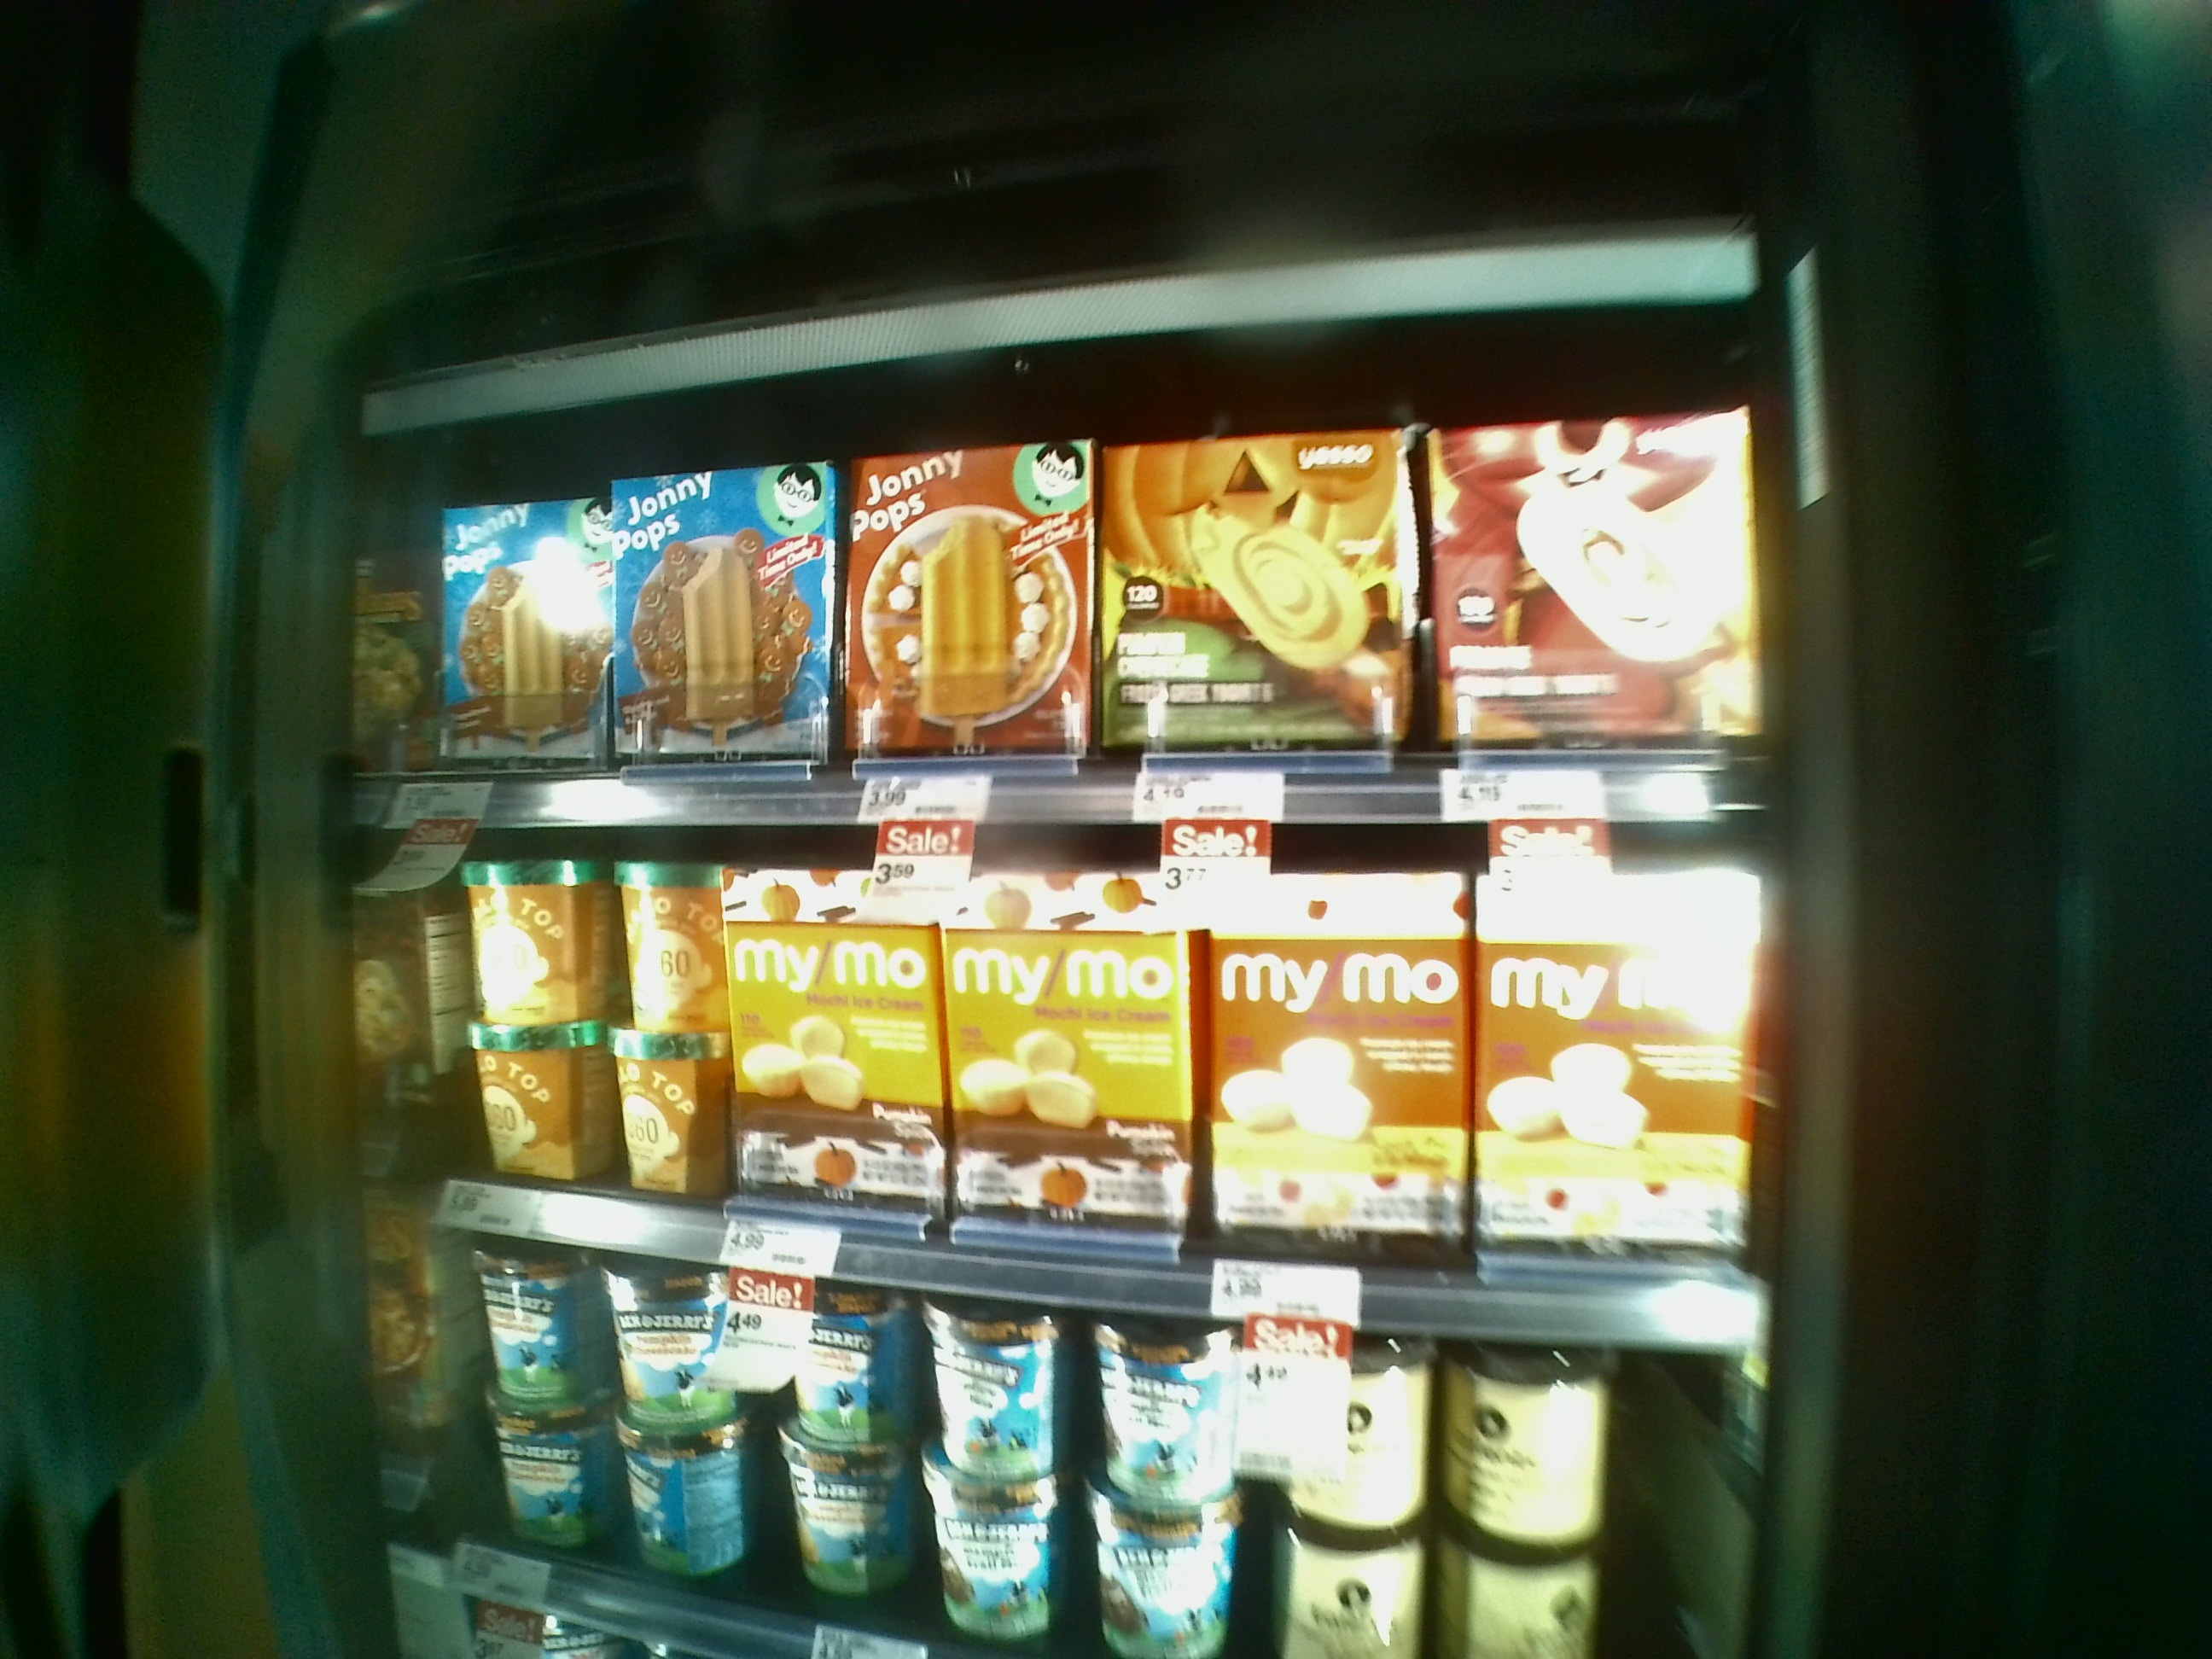shelf: (341, 781, 1773, 1342), (354, 385, 1791, 798)
